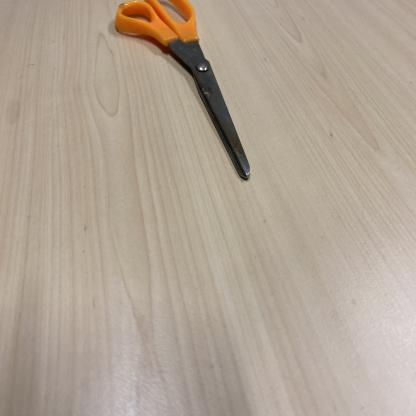scissors: (109, 0, 253, 182)
